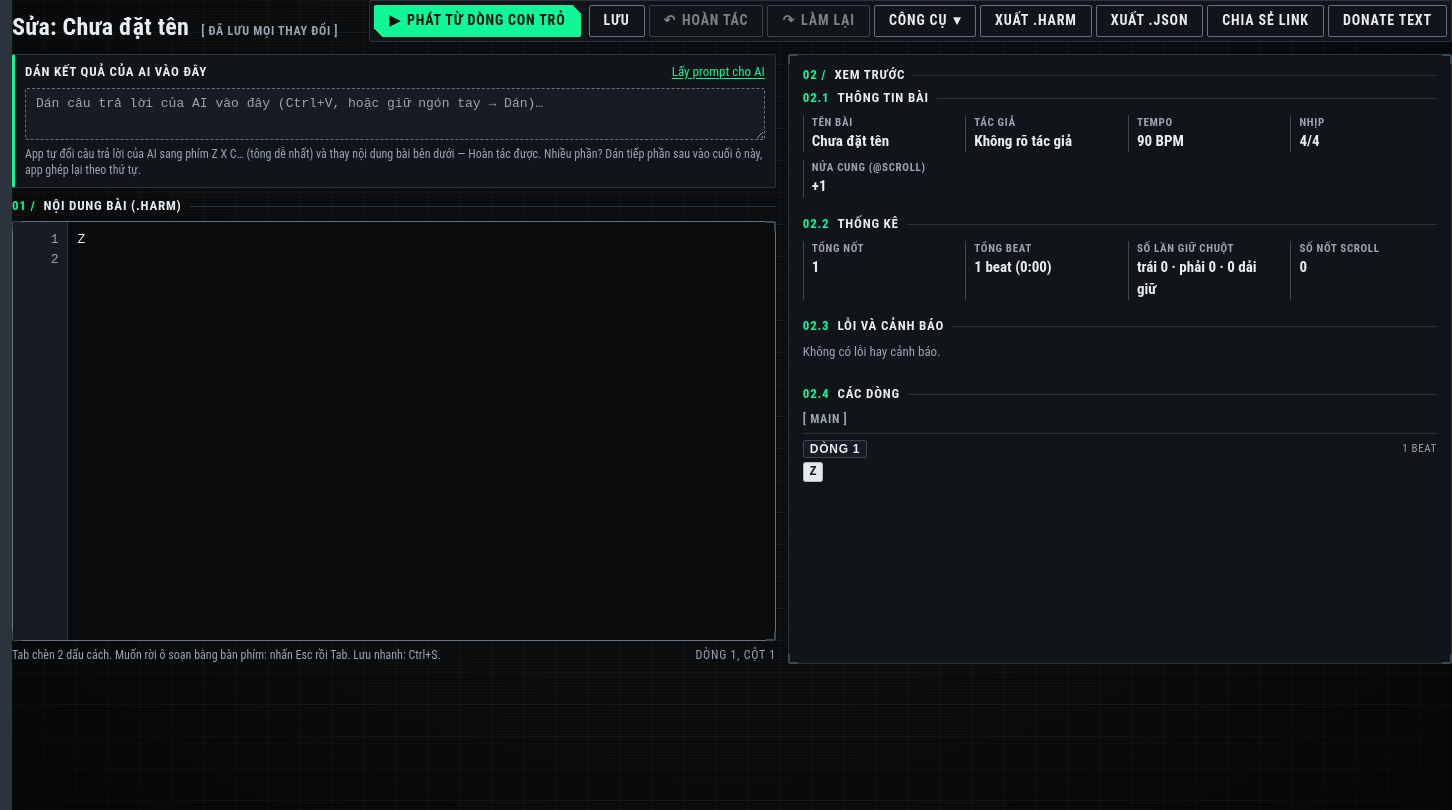
Test case: EditorView — ô dán kết quả AI › dán rác / dán nhầm prompt: không đổi bài, lời nhắc thân thiện
The width and height of the screenshot is (1452, 810).
Replace the text in the text box labelled "Dán kết quả của AI vào đây" with "hello world" at {"x": 395, "y": 114}, box [25, 88, 765, 140]
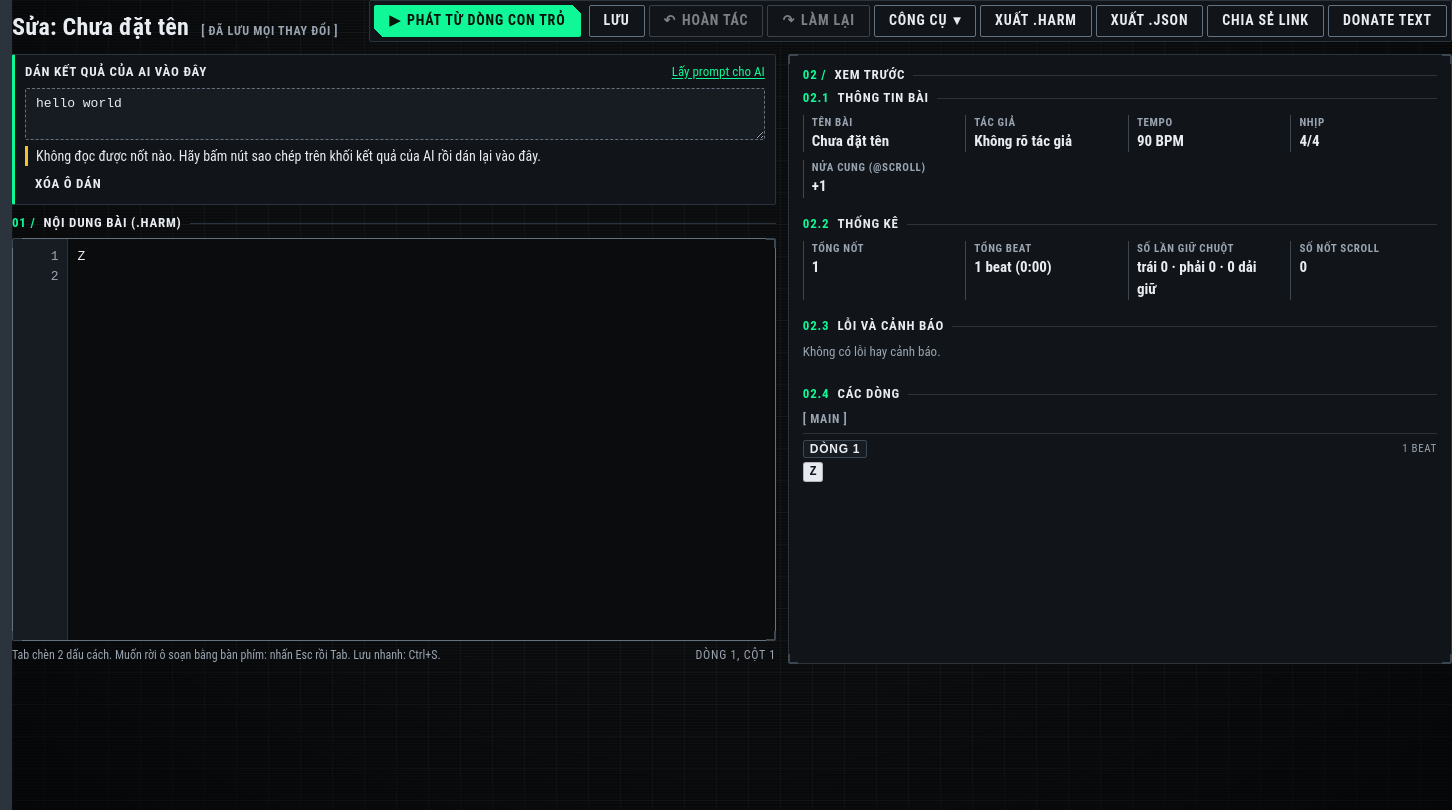
Check: the text "Không đọc được nốt nào" is shown, box [36, 148, 541, 164]
